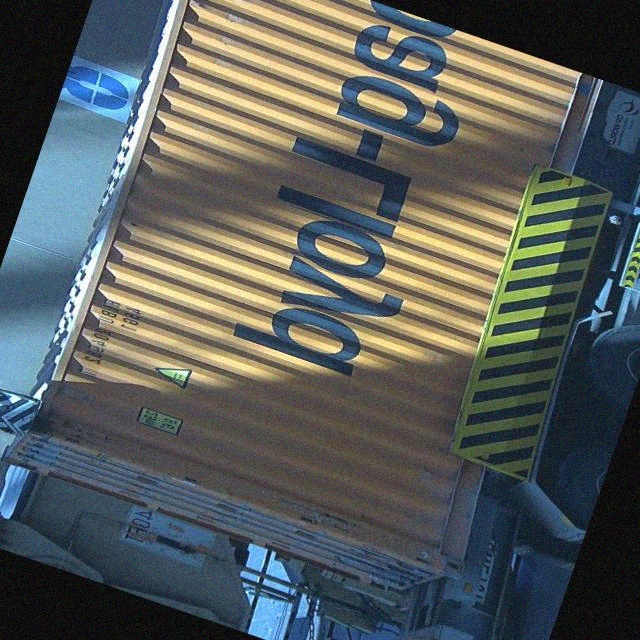Dent: (199, 1, 266, 53)
